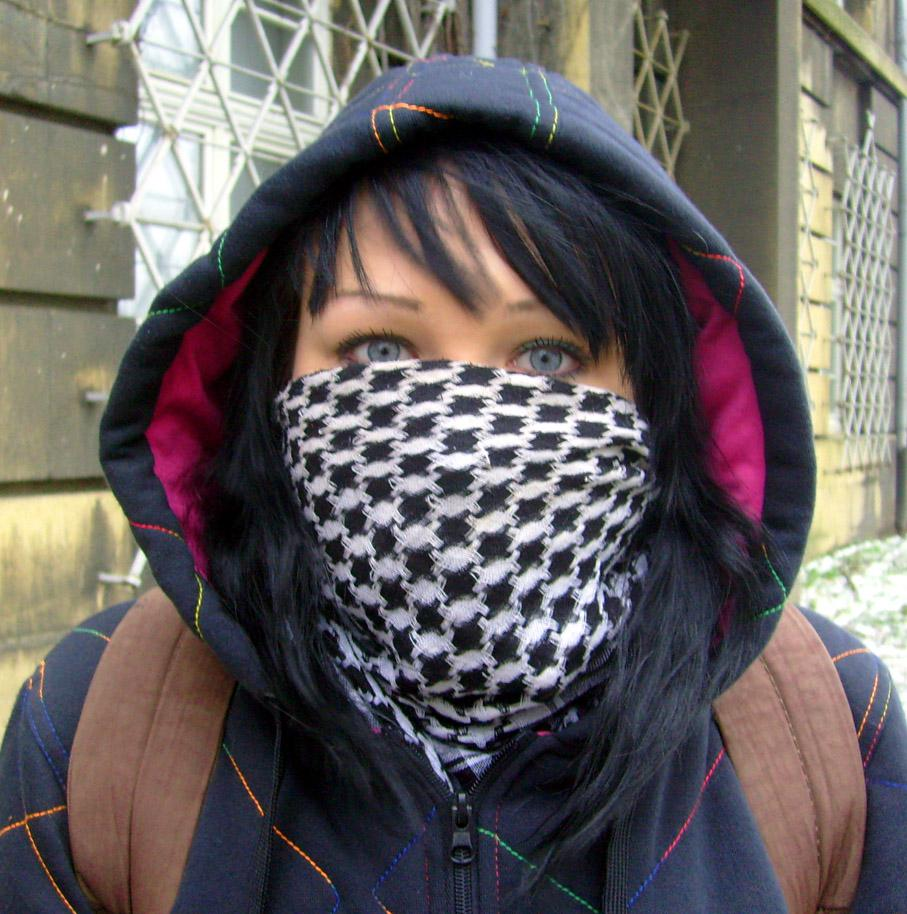OK: (319, 287, 641, 609)
